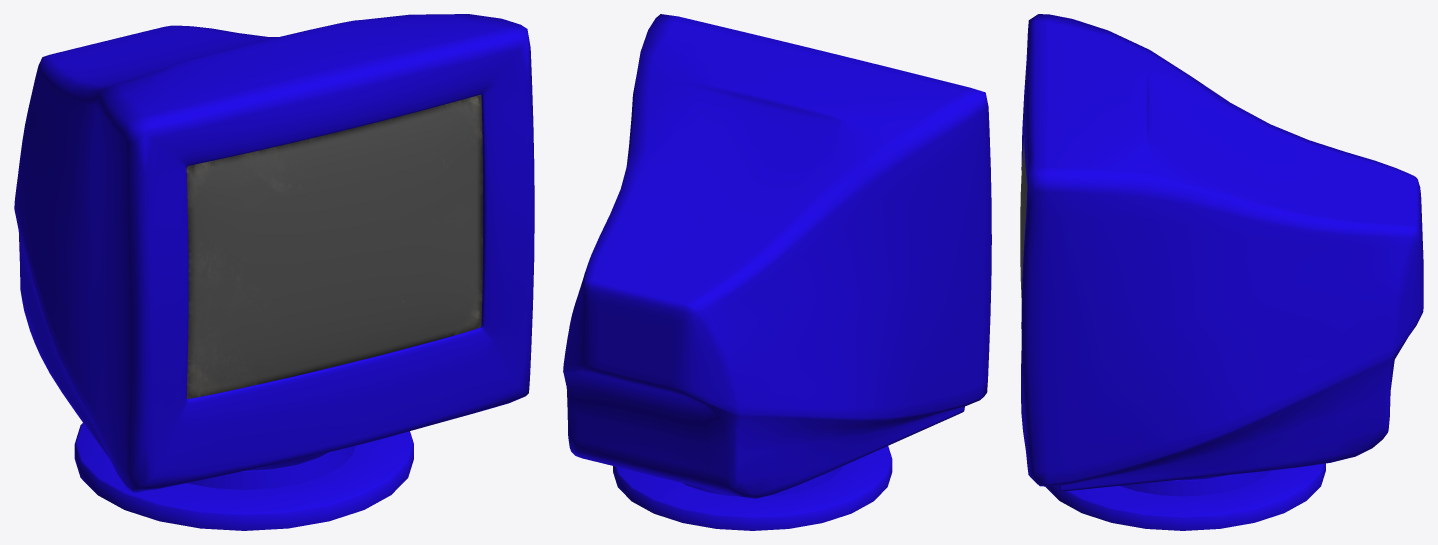
The model's file is CRT_Monitor.fbx.
3 renders of one model, left to right at view 1: azimuth 30°, elevation 25°; view 2: azimuth 150°, elevation 25°; view 3: azimuth 270°, elevation 25°, orthographic. The views are drawn at different scales.
Visible parts, largest first — view 1: CRT_Monitor; view 2: CRT_Monitor; view 3: CRT_Monitor.
Boxes of the visible parts, <box> form: CRT_Monitor: <box>14,14,534,530</box>; CRT_Monitor: <box>563,14,991,530</box>; CRT_Monitor: <box>1020,14,1423,530</box>.
Size of the model in its own units: 40.59 by 43.3 by 42.01.
